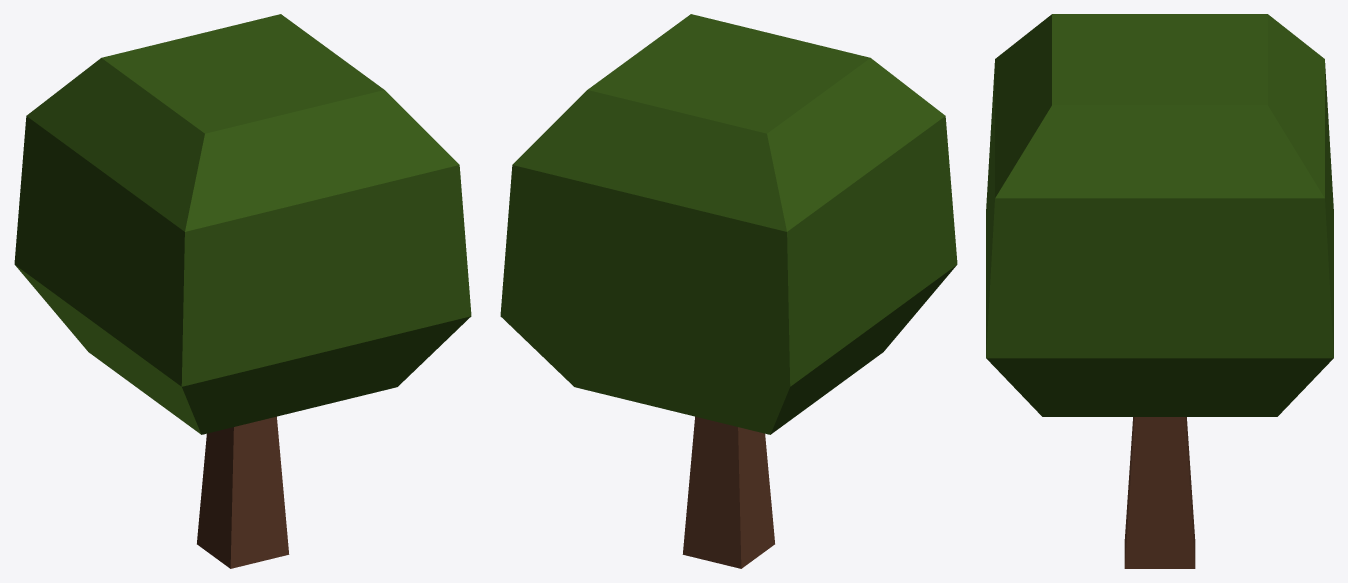
The model's file is tree-002.gltf.
3 renders of one model, left to right at view 1: azimuth 30°, elevation 25°; view 2: azimuth 150°, elevation 25°; view 3: azimuth 270°, elevation 25°, orthographic. The views are drawn at different scales.
Visible parts, largest first — view 1: Tree.002; view 2: Tree.002; view 3: Tree.002.
Part boxes in pixels (<box>): Tree.002: <box>14,14,471,568</box>; Tree.002: <box>500,14,957,568</box>; Tree.002: <box>986,14,1333,568</box>.
Bounding box in the file's own units: 1.49 × 2.34 × 1.49.
Materials: 1 (1 with a texture image).
